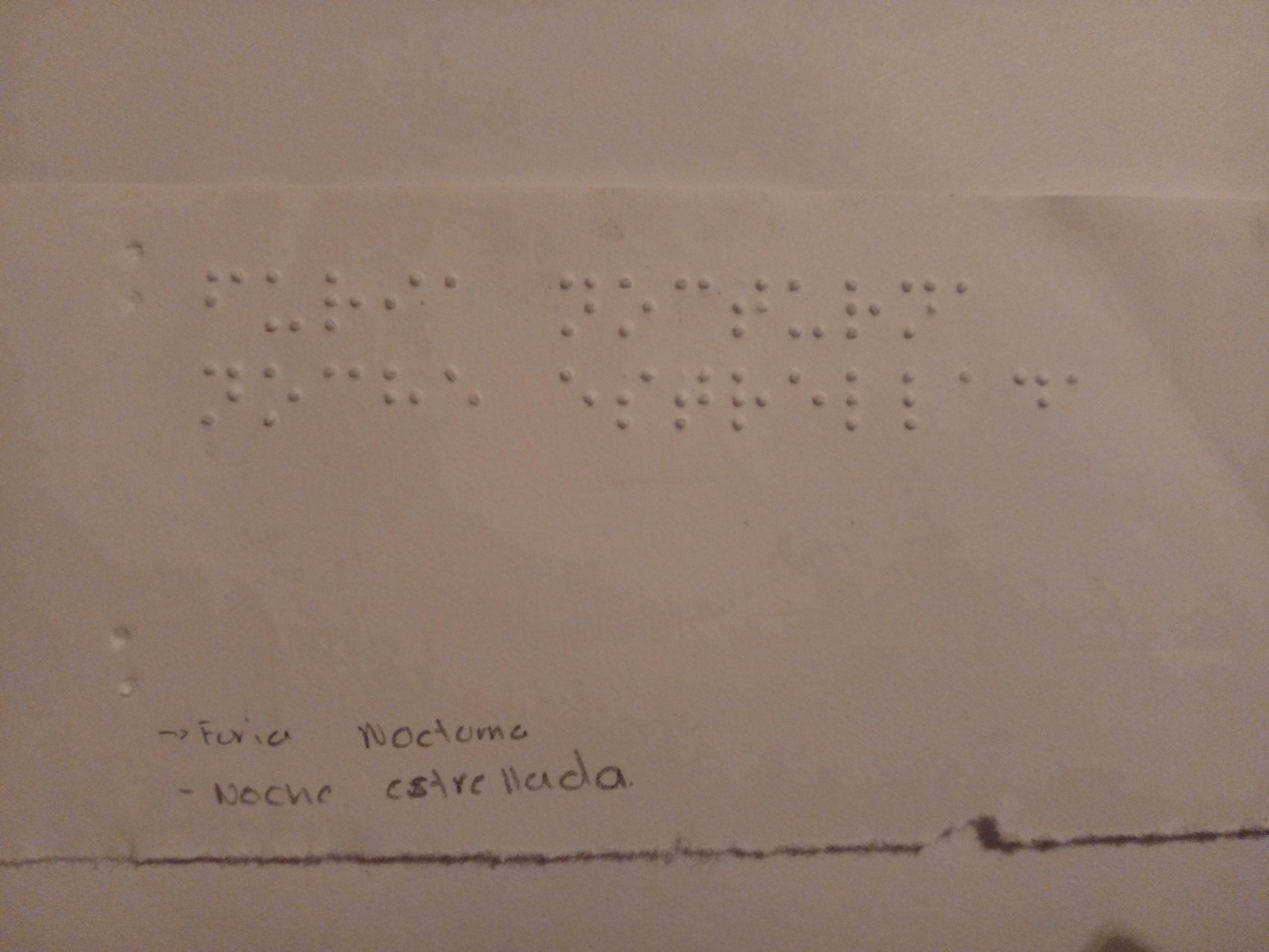a: (1061, 355, 1112, 459), (950, 245, 996, 350), (942, 356, 990, 454), (438, 246, 476, 346)
c: (668, 253, 720, 356), (316, 356, 367, 437)
d: (1005, 364, 1061, 460)
e: (435, 359, 493, 443), (779, 361, 835, 448), (547, 361, 604, 442)
f: (197, 248, 252, 344)
h: (375, 353, 434, 446)
i: (381, 246, 432, 347)
l: (883, 356, 933, 466), (835, 355, 874, 462)
n: (556, 256, 607, 364), (895, 254, 945, 353), (191, 359, 249, 439)
o: (610, 249, 660, 364), (257, 359, 314, 445)
r: (835, 249, 888, 350), (319, 248, 370, 352), (725, 364, 776, 451)
s: (610, 364, 661, 446)
t: (730, 251, 784, 361), (668, 363, 723, 449)
u: (771, 245, 830, 358), (256, 249, 314, 353)
